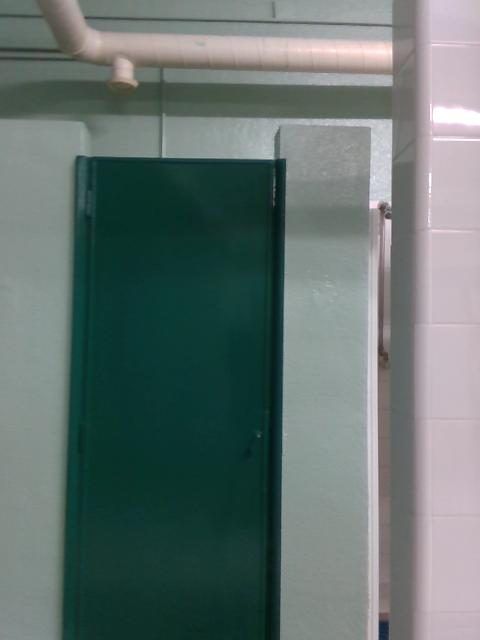door: (74, 156, 276, 640)
